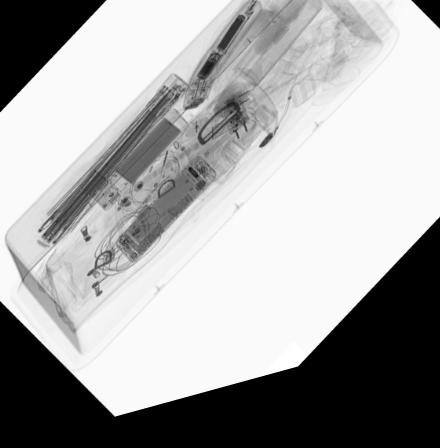Powerbank: (90, 114, 191, 217)
